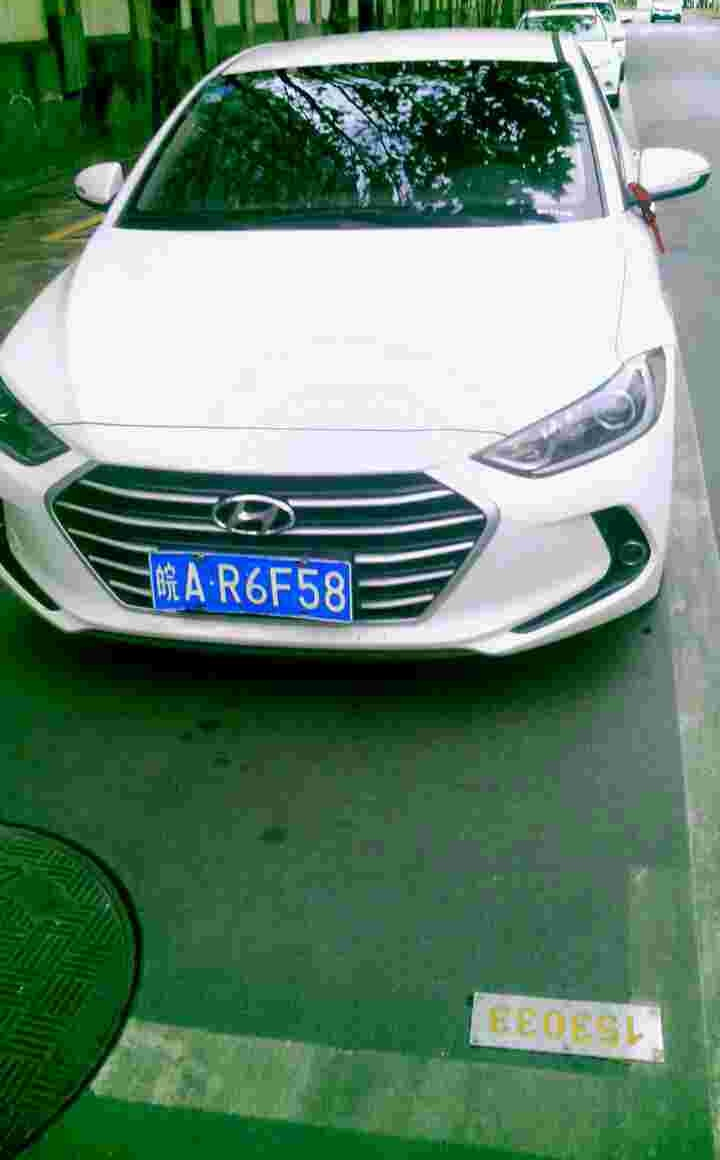license_plate: (148, 548, 348, 615)
